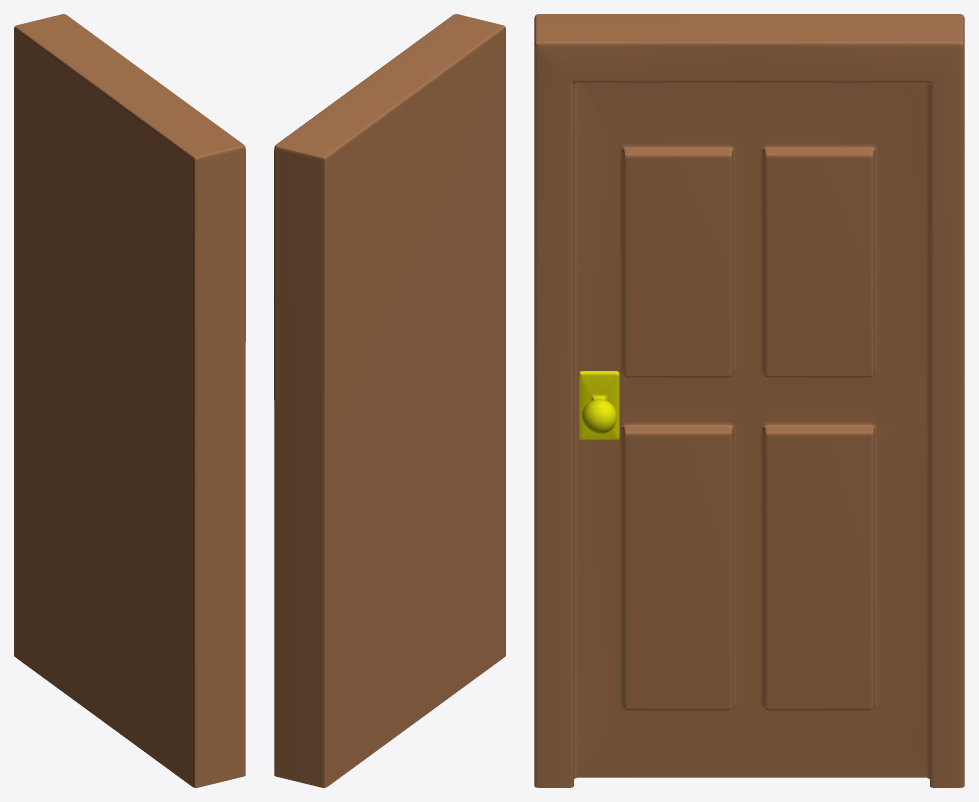
File: SM_Porte.fbx
The picture shows the model from 3 angles, left to right: view 1: azimuth 30°, elevation 25°; view 2: azimuth 150°, elevation 25°; view 3: azimuth 270°, elevation 25°; orthographic projection. The views are drawn at different scales.
Parts seen in each view (by area): view 1: porte; view 2: porte; view 3: porte.
Boxes of the visible parts, x1,y1,x2,y2 form: porte: [14, 14, 245, 787]; porte: [274, 14, 505, 787]; porte: [534, 14, 964, 787].
Bounding box in the file's own units: 27.2 × 241 × 126.
